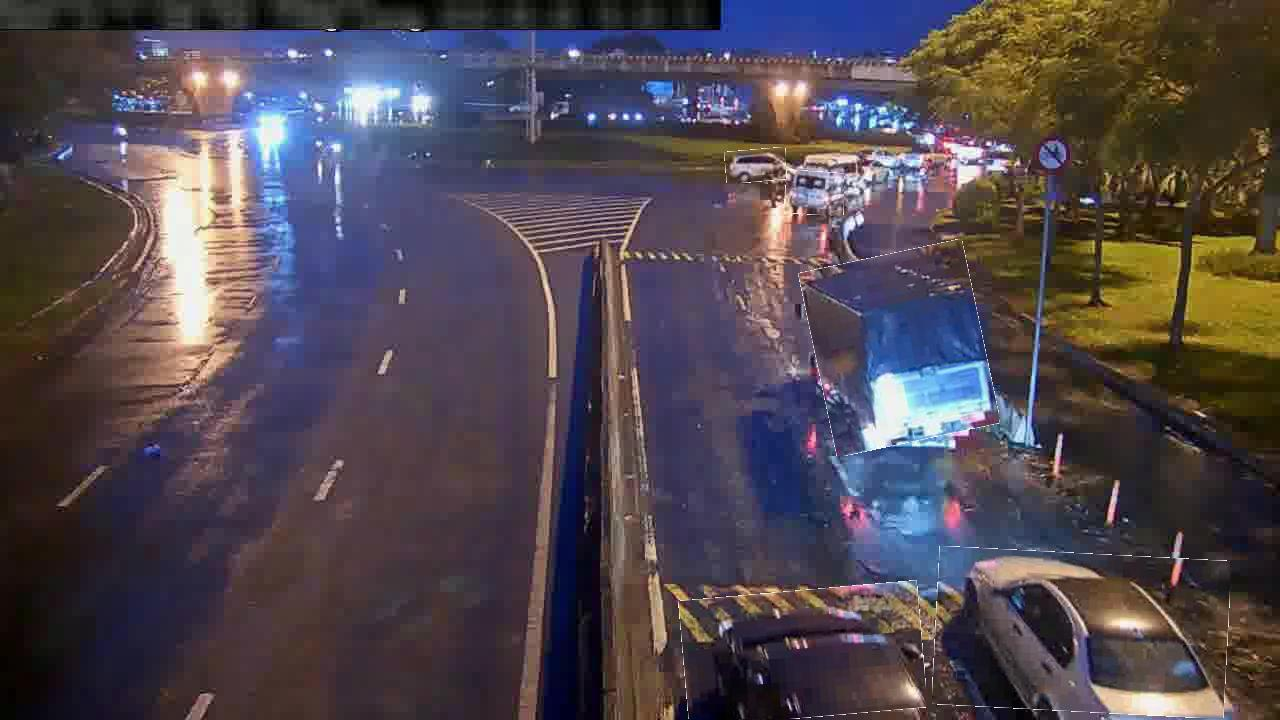14: (785, 170, 845, 215)
8: (807, 247, 992, 450)
container: (934, 550, 1230, 716), (680, 585, 925, 719), (725, 149, 787, 183)
